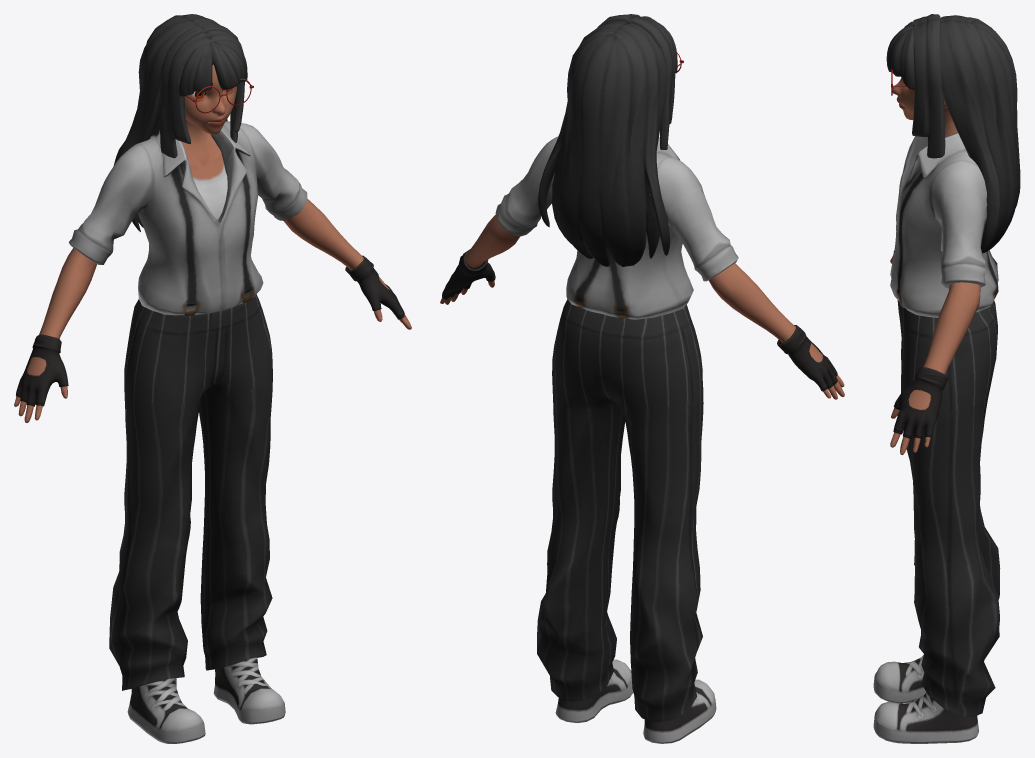
File: StaffBizo_Mesh.obj
The picture shows the model from 3 angles, left to right: view 1: azimuth 30°, elevation 25°; view 2: azimuth 150°, elevation 25°; view 3: azimuth 270°, elevation 25°; orthographic projection.
Parts seen in each view (by area): view 1: StaffBizo_Mesh_0; view 2: StaffBizo_Mesh_0; view 3: StaffBizo_Mesh_0.
Boxes of the visible parts, box(x1,y1,x2,y2) form: StaffBizo_Mesh_0: box(14, 14, 411, 743); StaffBizo_Mesh_0: box(440, 14, 844, 743); StaffBizo_Mesh_0: box(873, 14, 1020, 743).
Bounding box in the file's own units: 1.06 × 1.8 × 0.3442.
Materials: 1 (1 with a texture image).
